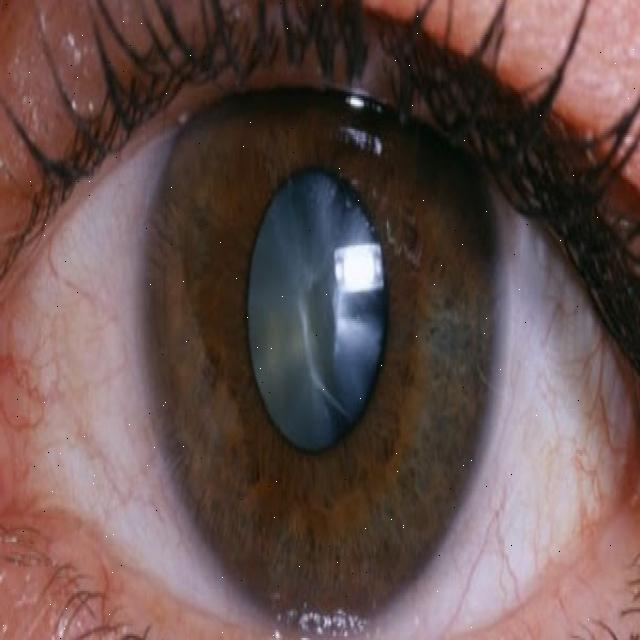Cataract: (143, 23, 502, 623)
